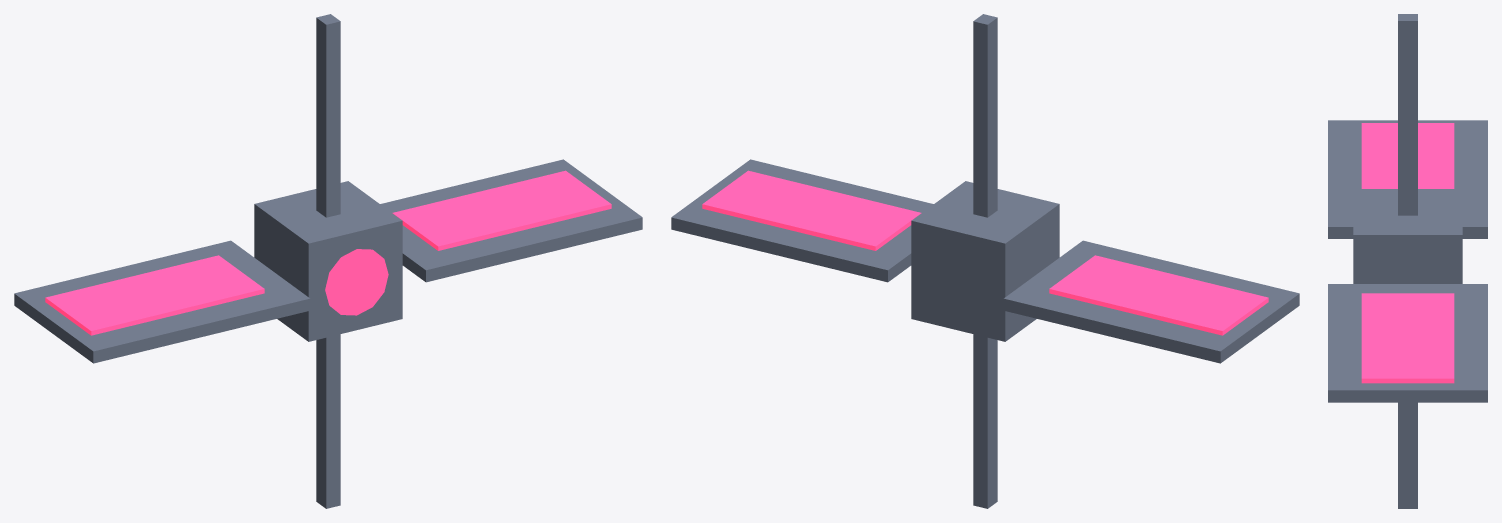
The model's file is command_relay.glb.
The picture shows the model from 3 angles, left to right: view 1: azimuth 30°, elevation 25°; view 2: azimuth 150°, elevation 25°; view 3: azimuth 270°, elevation 25°; orthographic projection.
Parts seen in each view (by area): view 1: Relay; view 2: Relay; view 3: Relay.
Boxes of the visible parts, x1=… form: Relay: x1=14, y1=14, x2=642, y2=508; Relay: x1=671, y1=14, x2=1299, y2=508; Relay: x1=1328, y1=14, x2=1487, y2=508.
Size of the model in its own units: 3.8 by 3.2 by 0.95.
